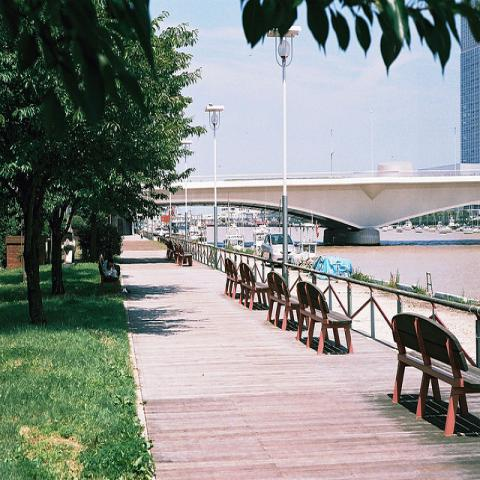car: (260, 233, 296, 262)
